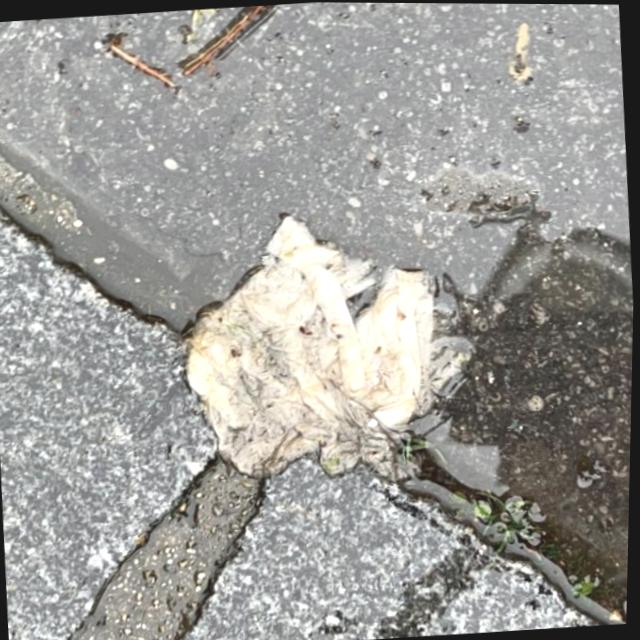Paper: (169, 197, 495, 497)
